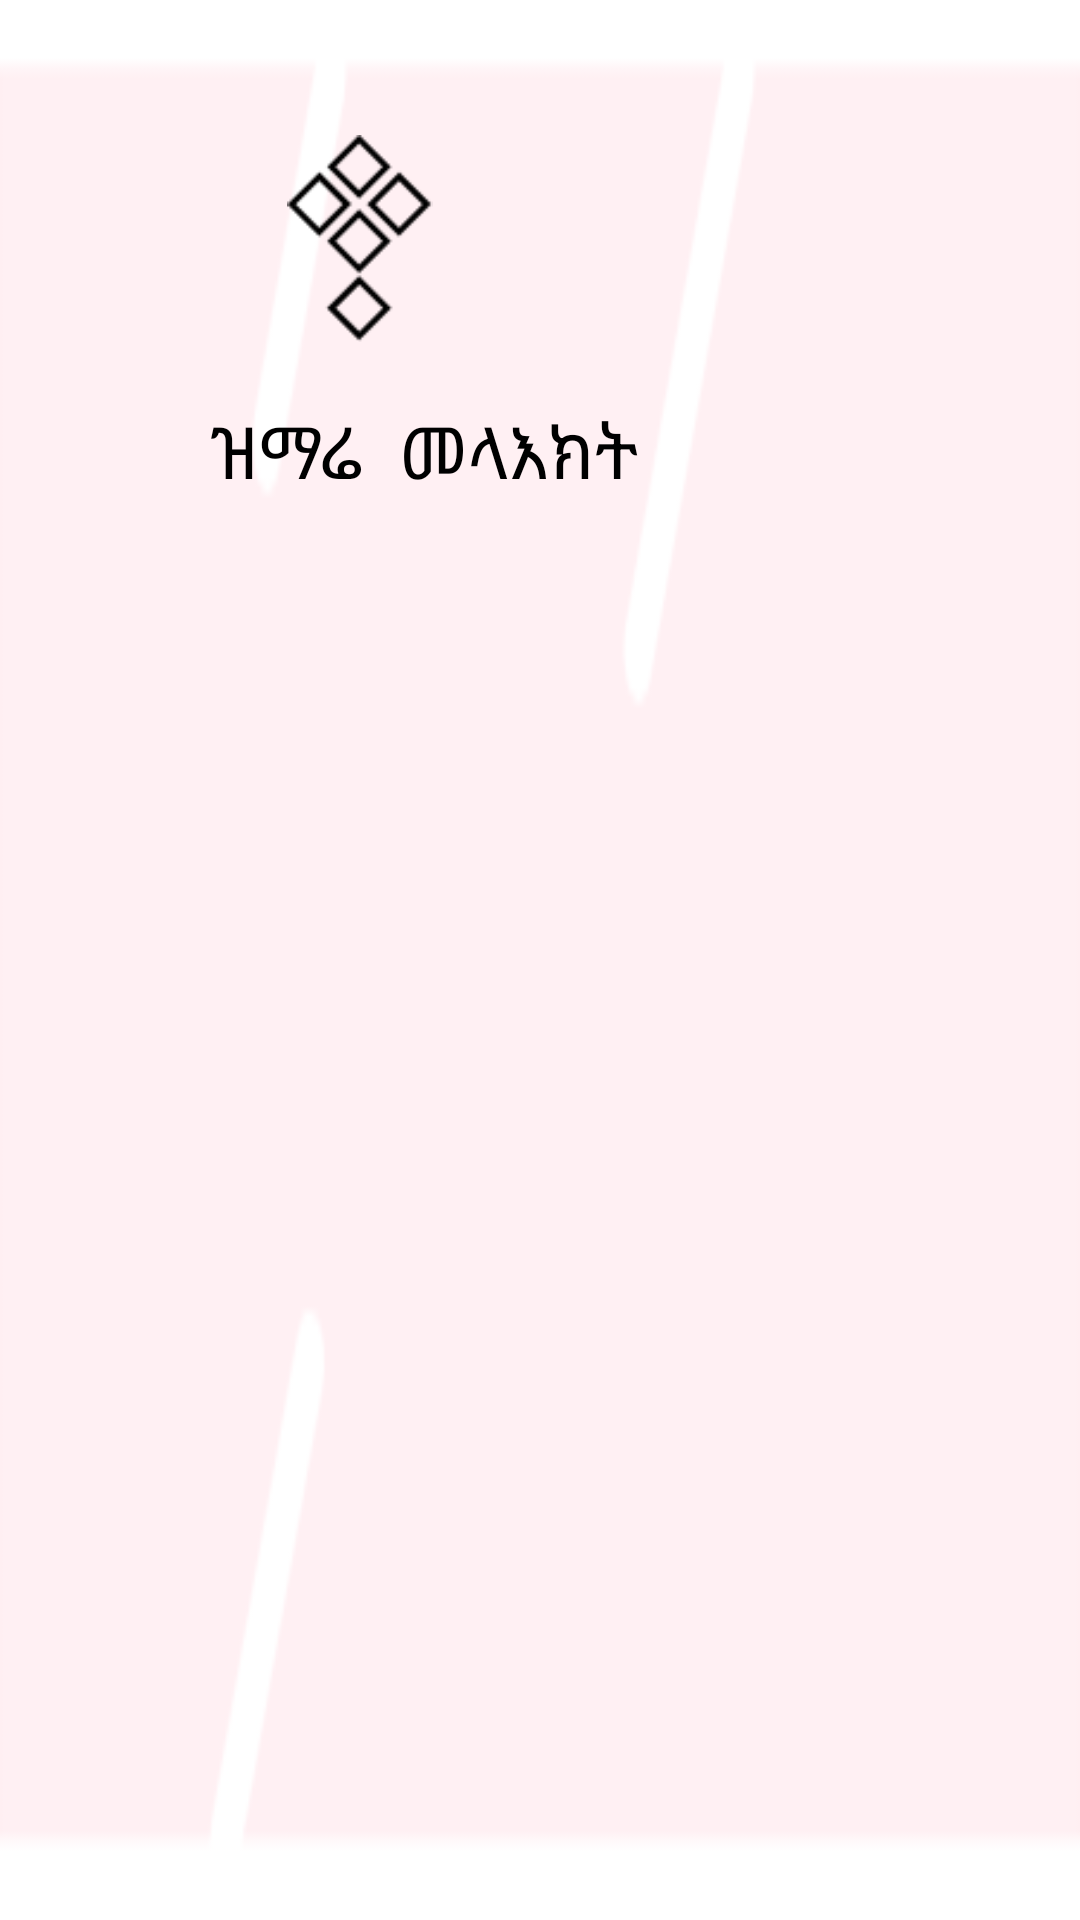

Named icons in this screenshot (1080*1920) and their centers, (x=x, y=y):
meskel: (x=359, y=238)
